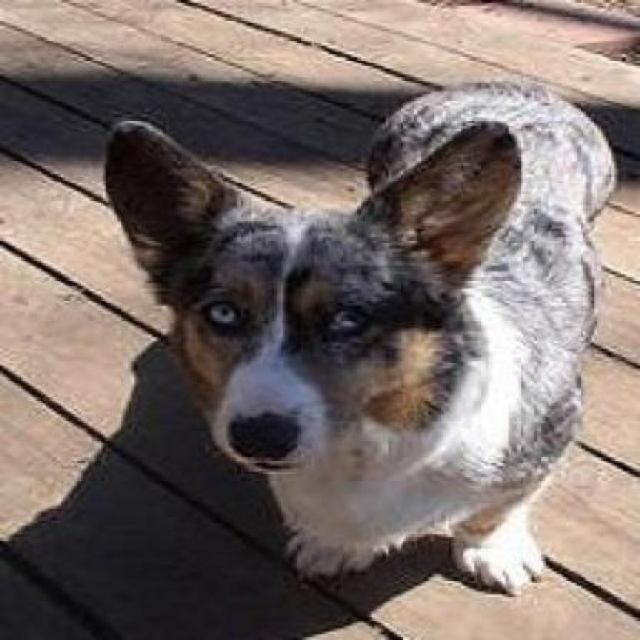Dog: (102, 83, 623, 600)
